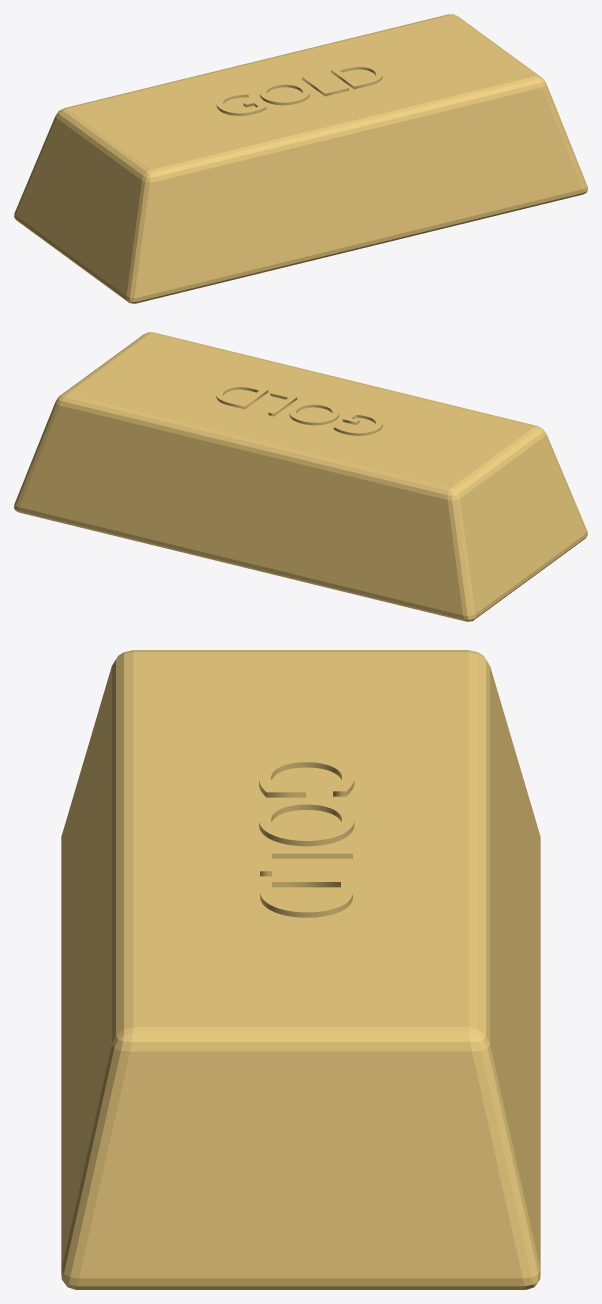
The model's file is gold.glb.
3 renders of one model, top to bottom at view 1: azimuth 30°, elevation 25°; view 2: azimuth 150°, elevation 25°; view 3: azimuth 270°, elevation 25°, orthographic. The views are drawn at different scales.
Parts seen in each view (by area): view 1: gold bar, gold stamp; view 2: gold bar, gold stamp; view 3: gold bar, gold stamp.
Part boxes in pixels (x1,y1,x2,y2): gold bar: (14,14,587,303); gold stamp: (216,64,382,115); gold bar: (14,332,587,621); gold stamp: (216,384,382,435); gold bar: (61,650,540,1289); gold stamp: (259,756,354,917).
Size of the model in its own units: 0.109 by 0.0266 by 0.0492.
